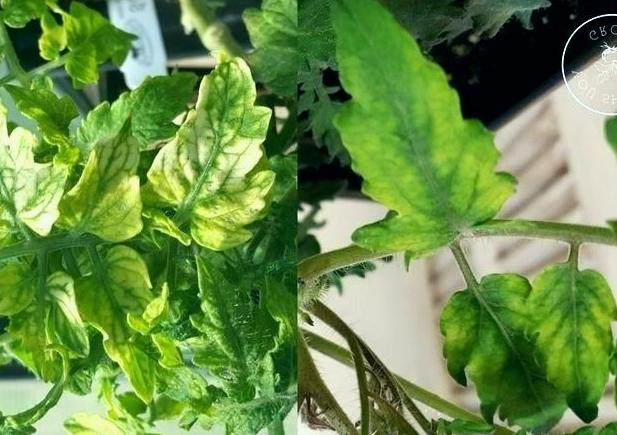Tomato leaf yellow virus: (317, 4, 526, 270), (150, 48, 272, 248), (439, 255, 576, 432), (0, 18, 73, 252), (53, 99, 164, 238), (528, 257, 615, 417), (81, 227, 163, 391), (0, 252, 87, 371), (35, 2, 143, 82)
